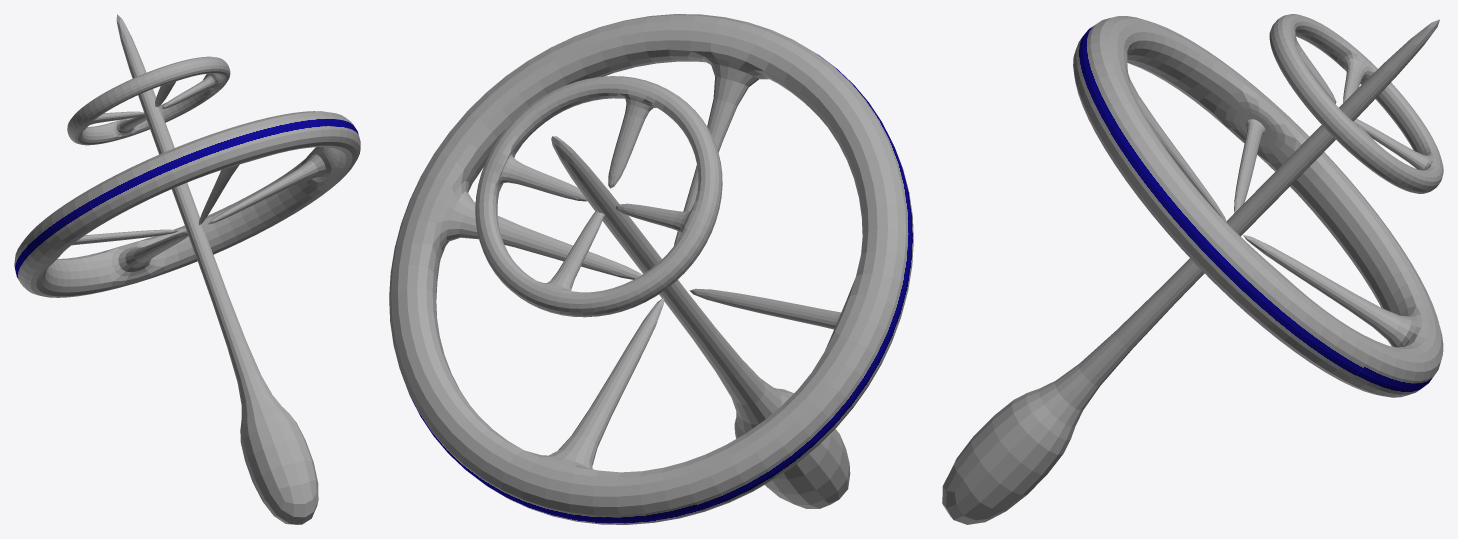
The model's file is station.fbx.
3 renders of one model, left to right at view 1: azimuth 30°, elevation 25°; view 2: azimuth 150°, elevation 25°; view 3: azimuth 270°, elevation 25°, orthographic. The views are drawn at different scales.
Visible parts, largest first — view 1: Cylinder.001; view 2: Cylinder.001; view 3: Cylinder.001.
Part boxes in pixels (left/top/right/bottom): Cylinder.001: left=14, top=14, right=360, bottom=524; Cylinder.001: left=389, top=14, right=913, bottom=524; Cylinder.001: left=942, top=14, right=1443, bottom=524.
Size of the model in its own units: 1119 by 1266 by 1144.
1 material, 1 textured.
